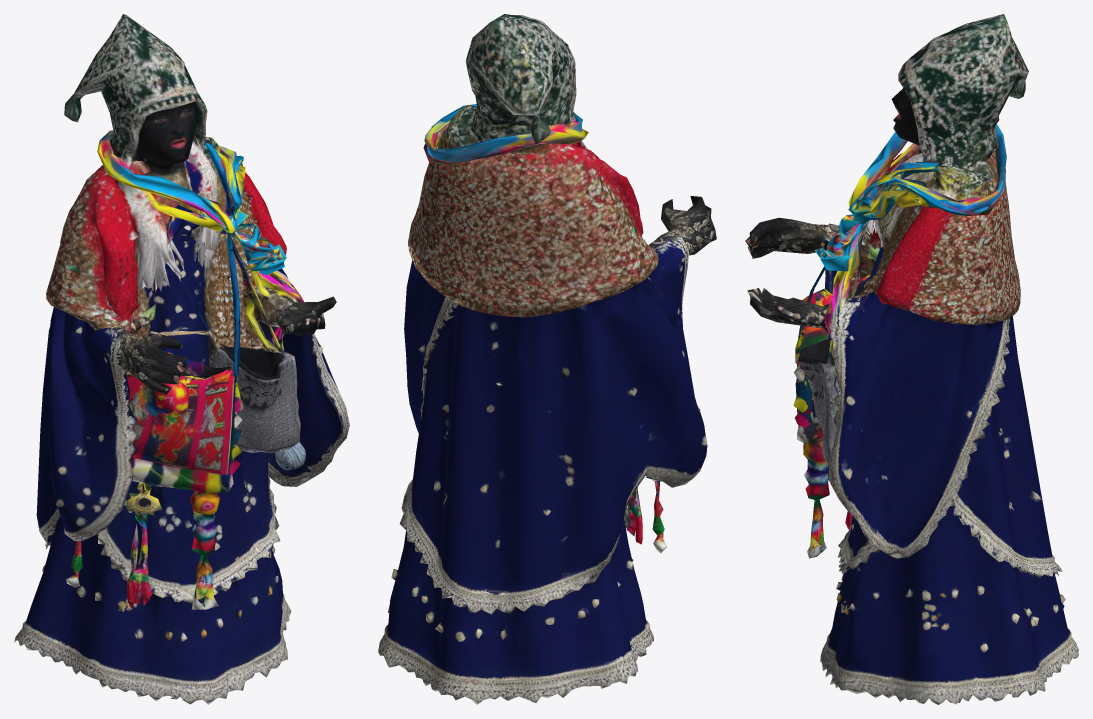
The model's file is santo2.glb.
The picture shows the model from 3 angles, left to right: view 1: azimuth 30°, elevation 25°; view 2: azimuth 150°, elevation 25°; view 3: azimuth 270°, elevation 25°; orthographic projection. The views are drawn at different scales.
Parts seen in each view (by area): view 1: tripo_node_11149faa-efb1-4224-a27f-abea731cf0c1; view 2: tripo_node_11149faa-efb1-4224-a27f-abea731cf0c1; view 3: tripo_node_11149faa-efb1-4224-a27f-abea731cf0c1.
Boxes of the visible parts, <box> form: tripo_node_11149faa-efb1-4224-a27f-abea731cf0c1: <box>14,14,349,704</box>; tripo_node_11149faa-efb1-4224-a27f-abea731cf0c1: <box>378,14,716,704</box>; tripo_node_11149faa-efb1-4224-a27f-abea731cf0c1: <box>745,14,1078,704</box>.
Bounding box in the file's own units: 1.59 × 3.41 × 1.59.
Materials: 1 (1 with a texture image).
